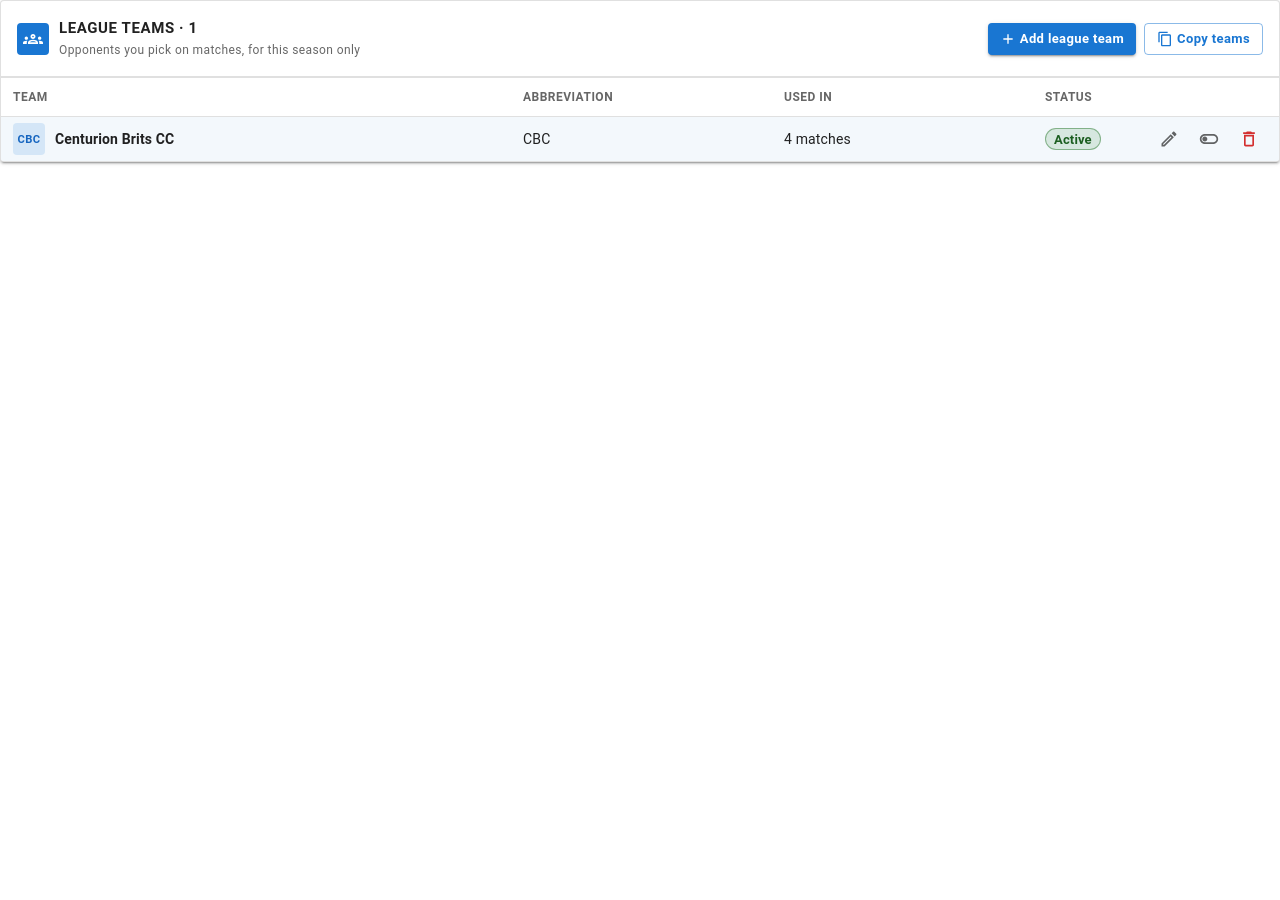
Test: LeagueTeamsSection › says a referenced team will be deactivated, and reports the actual outcome
Click the button named "Remove Centurion Brits CC". click: (1249, 140)
box: [1231,122,1267,158]
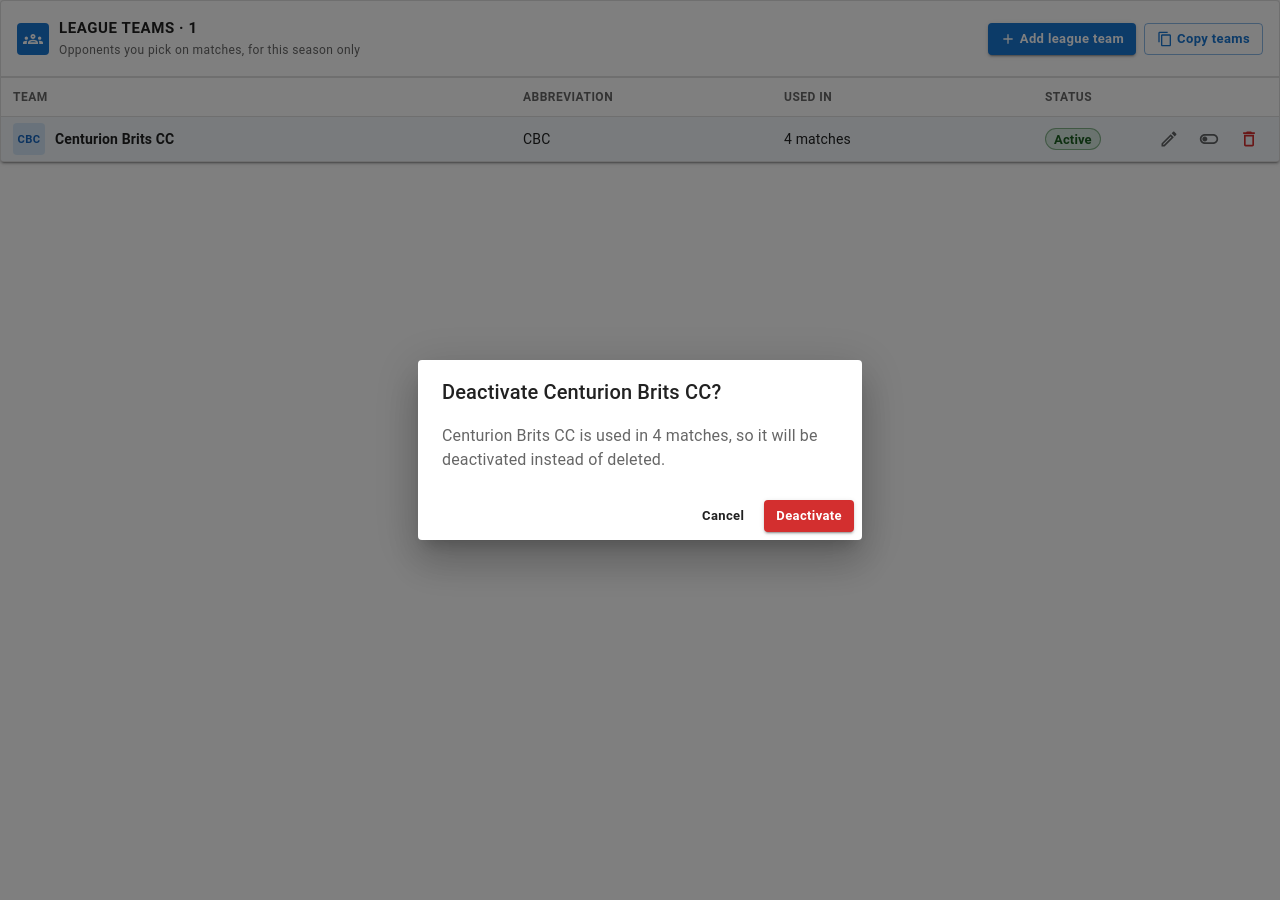
Expected: the text "is used in 4 matches, so it will be deactivated instead" is shown, [442,426,818,469]
Click the button "Deactivate". click: (809, 516)
box: [764,500,854,532]
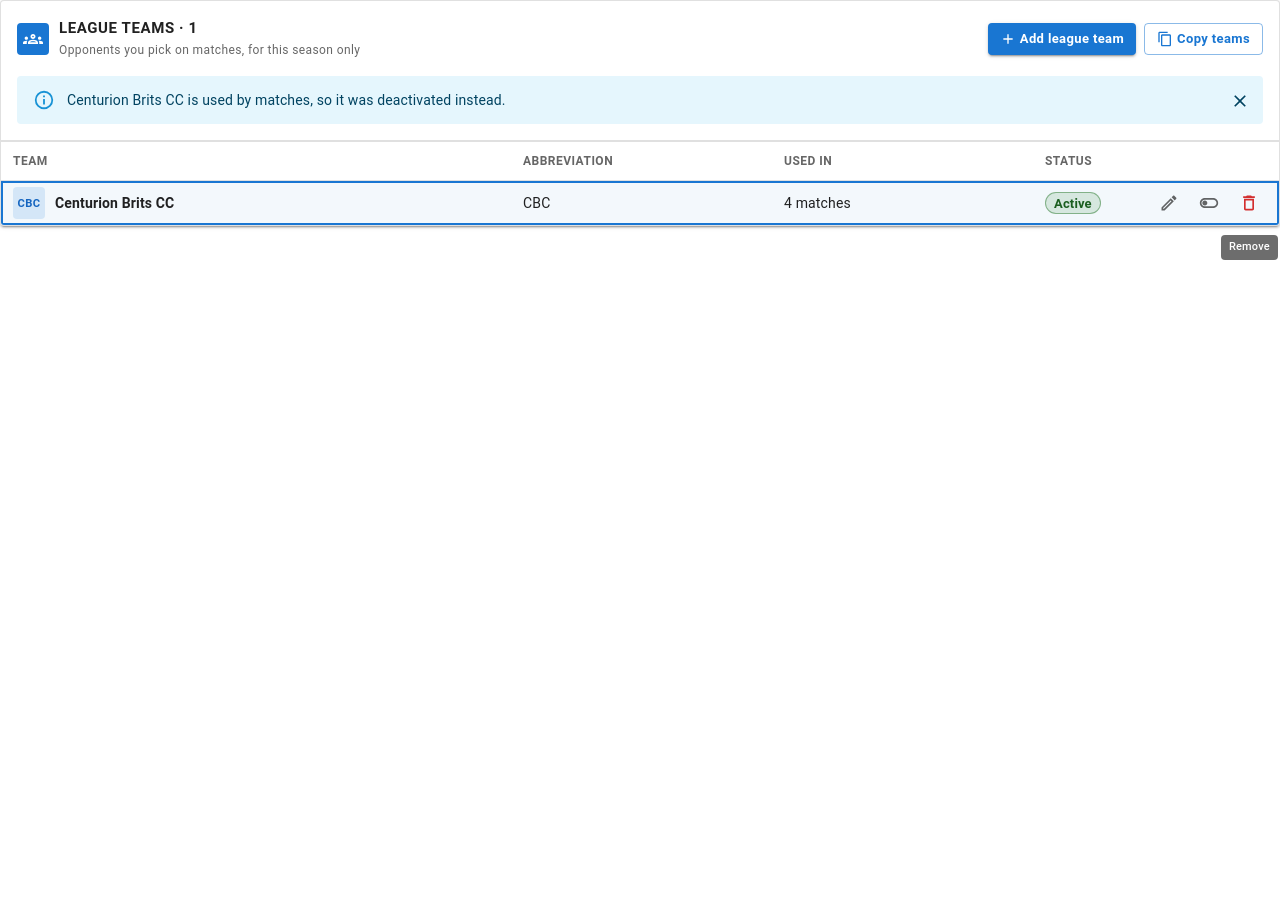
Expected: the text "so it was deactivated instead" is shown, [67,92,506,108]
